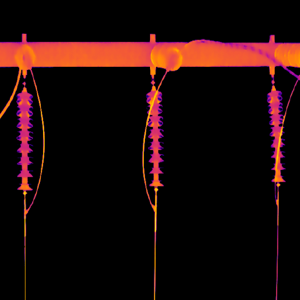insulator: (13, 90, 35, 193), (265, 86, 287, 188), (145, 85, 165, 189)
